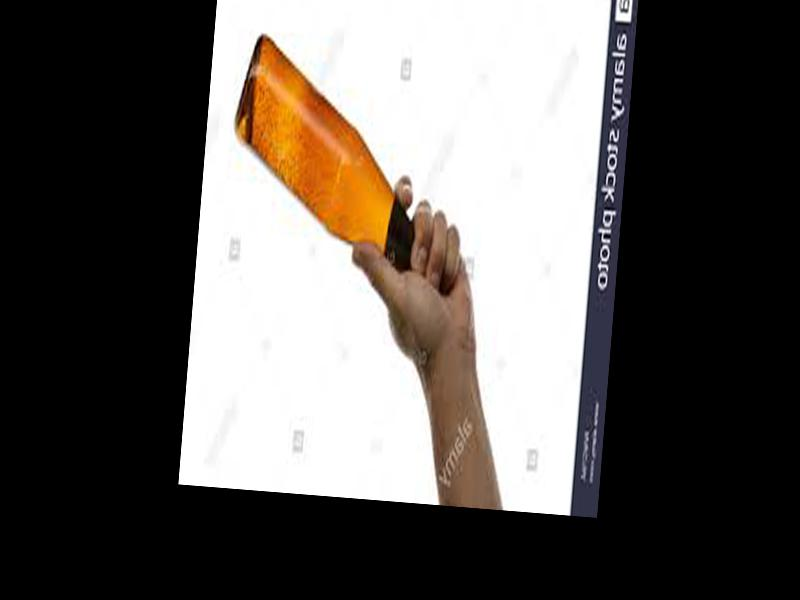Beer: (220, 32, 469, 290)
